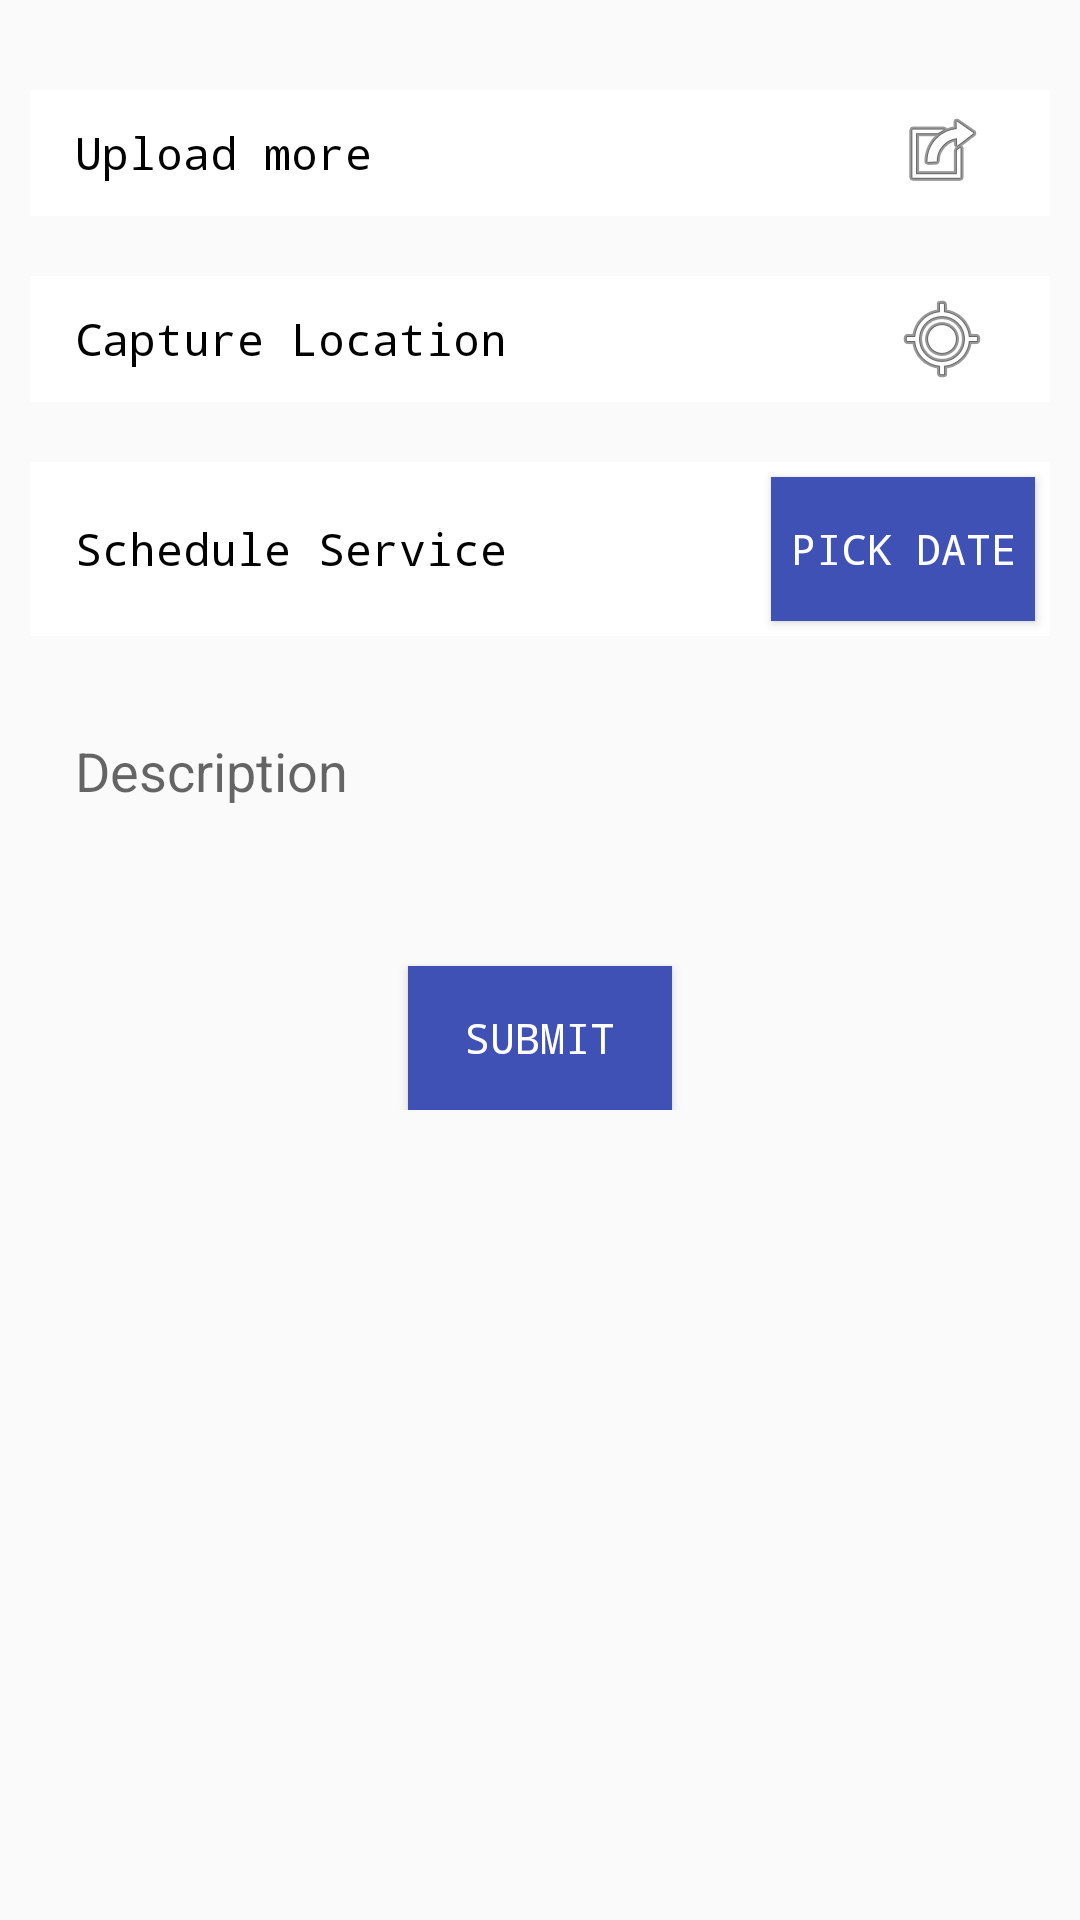

Icons on this 1080 x 1920 Android screen, each with the point to tap as (x=x, y=y):
mylocation: (x=942, y=339)
set as: (x=943, y=149)
